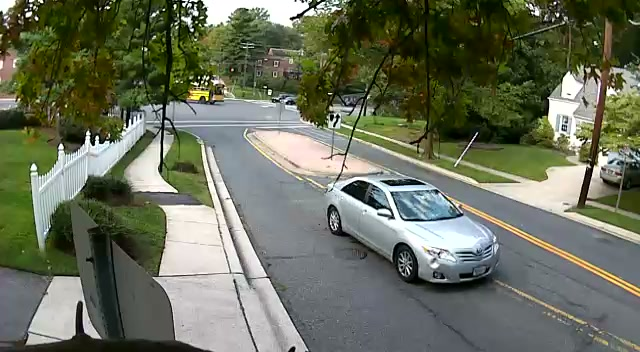car: (324, 172, 502, 285), (600, 150, 640, 189), (272, 94, 296, 104), (281, 95, 297, 105)
